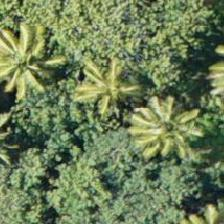coconut_tree: (123, 89, 213, 179), (122, 78, 212, 168), (66, 44, 156, 134), (0, 11, 77, 101), (0, 5, 61, 95)
